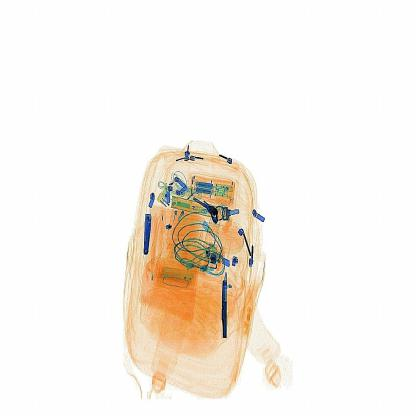pliers: (214, 264, 238, 344)
